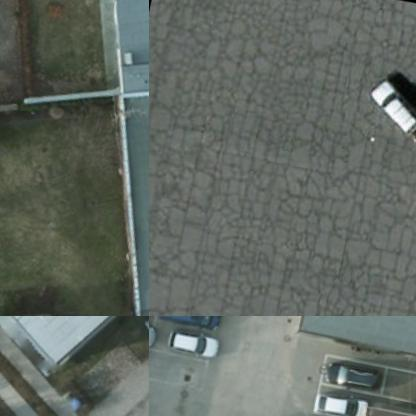car: (358, 72, 415, 139), (321, 358, 383, 394), (162, 324, 220, 359), (308, 386, 368, 415)
van: (153, 316, 222, 332)
